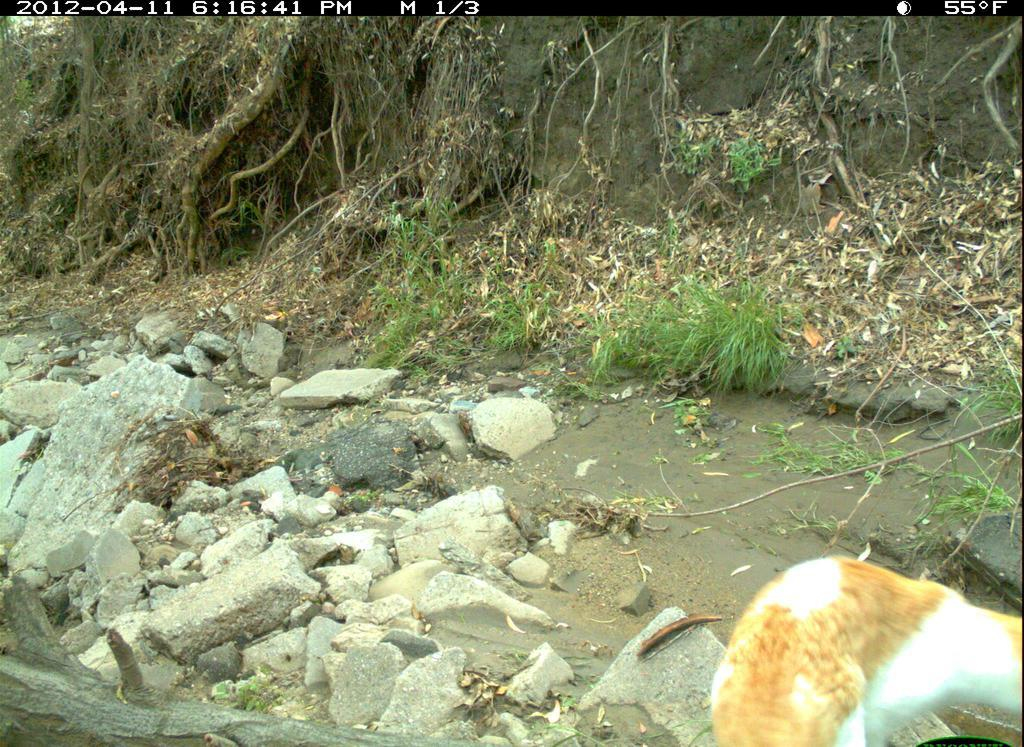cat: (707, 520, 1022, 747)
